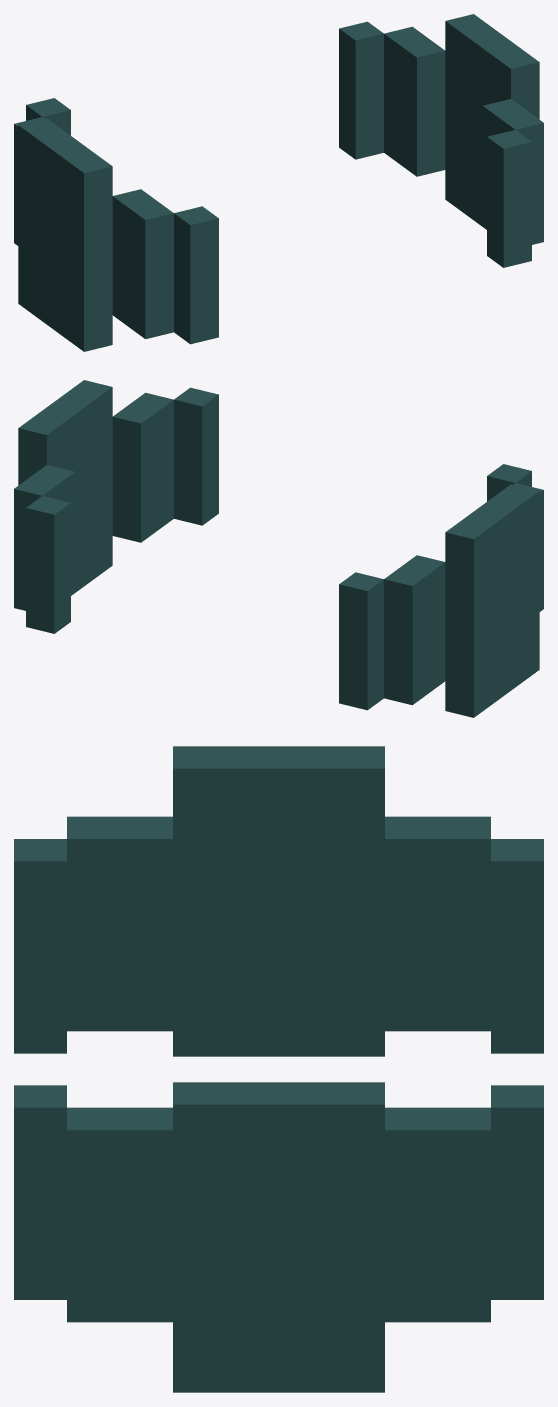
Rendered from Crystal_Ring_4.glb.
3 views of the same model, one above another, from view 1: azimuth 30°, elevation 25°; view 2: azimuth 150°, elevation 25°; view 3: azimuth 270°, elevation 25° (orthographic). The views are drawn at different scales.
Parts seen in each view (by area): view 1: Crystal_Ring_4; view 2: Crystal_Ring_4; view 3: Crystal_Ring_4.
Part boxes in pixels (x1=…): Crystal_Ring_4: x1=14, y1=14, x2=543, y2=351; Crystal_Ring_4: x1=14, y1=380, x2=543, y2=717; Crystal_Ring_4: x1=14, y1=746, x2=543, y2=1392.
Size of the model in its own units: 0.4 by 0.15 by 0.25.
